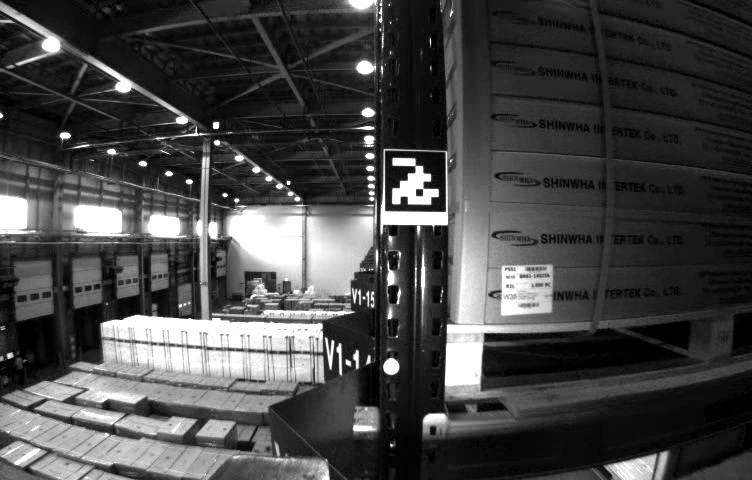True Barcode: (501, 263, 555, 316)
